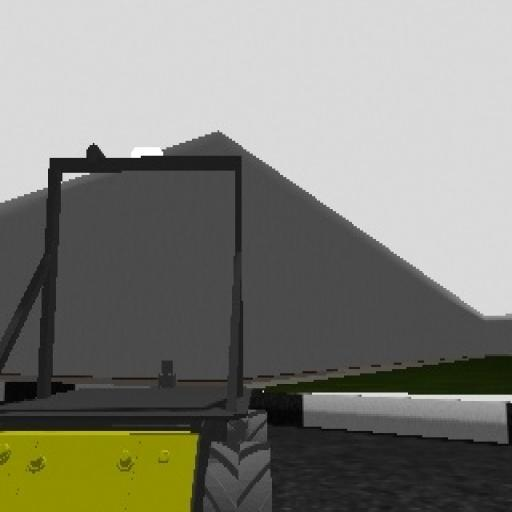huskya200: (0, 139, 275, 511)
